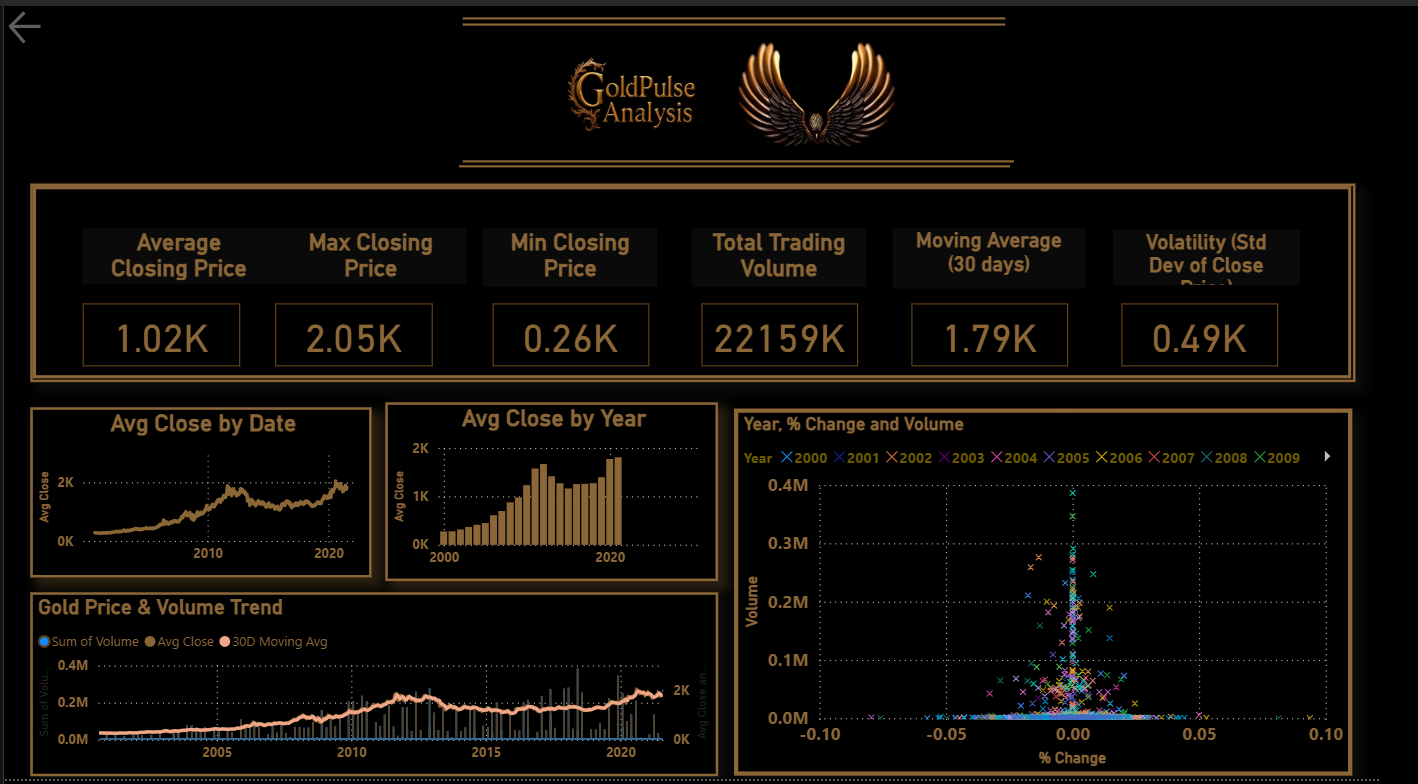

What the dashboard file says about the page in this screenshot:
{"tool":"powerbi","page":{"name":"Page 1","canvas":[1280,720],"ordinal":0},"visuals":[{"type":"actionButton","box":[0,0,100,40],"z":0},{"type":"image","box":[640.2,25.3,231,119.5],"z":1000},{"type":"image","box":[479.3,23,218.4,125.3],"z":2000},{"type":"shape","box":[426.4,3.4,504.6,16.1],"z":3000},{"type":"shape","box":[426.4,124.1,512.6,40.2],"z":4000},{"type":"shape","box":[423,124.1,512.6,49.4],"z":5000},{"type":"shape","box":[426.4,3.4,504.6,27.6],"z":6000},{"type":"textbox","title":"Average Closing Price","box":[73.3,207,179.1,52.3],"z":7000},{"type":"card","fields":{"Values":["Gold.Avg Close"]},"box":[73.3,276.7,146.5,58.1],"z":8000},{"type":"card","fields":{"Values":["Gold.Max Close"]},"box":[252.3,276.7,146.5,58.1],"z":9000},{"type":"card","fields":{"Values":["Gold.Min Close"]},"box":[454.7,276.7,145.3,58.1],"z":10000},{"type":"card","fields":{"Values":["Sum(Gold.Volume)"]},"box":[648.8,276.7,145.3,58.1],"z":11000},{"type":"card","fields":{"Values":["Gold.30D Moving Avg"]},"box":[844.2,276.7,145.3,58.1],"z":12000},{"type":"card","fields":{"Values":["Gold.Volatility"]},"box":[1039.5,276.7,145.3,58.1],"z":13000},{"type":"lineChart","title":"Avg Close by Date","fields":{"Y":["Gold.Avg Close"],"Category":["Gold.Date"]},"box":[24.4,373.3,317.4,158.1],"z":14000},{"type":"clusteredColumnChart","fields":{"Category":["Gold.Year"],"Y":["Gold.Avg Close"]},"box":[354.7,368.6,309.3,166.3],"z":15000},{"type":"actionButton","box":[24.4,165.1,1232.6,184.9],"z":16000},{"type":"lineStackedColumnComboChart","title":"Gold Price & Volume Trend","fields":{"Category":["Gold.Date"],"Y":["Sum(Gold.Volume)"],"Y2":["Gold.Avg Close","Gold.30D Moving Avg"]},"box":[24,545,640,171],"z":17000},{"type":"scatterChart","fields":{"X":["Gold.% Change"],"Y":["Gold.Volume"],"Series":["Gold.Year"]},"box":[679.1,374.4,575.6,341.9],"z":18000},{"type":"textbox","title":"Max Closing Price","box":[252.3,207,177.9,52.3],"z":19000},{"type":"textbox","title":"Min Closing Price","box":[445.4,207,162.8,54.7],"z":20000},{"type":"textbox","title":"Total Trading Volume","box":[639.5,207,162.8,54.7],"z":21000},{"type":"textbox","title":"Moving Average (30 days)","box":[827.2,206.5,179.1,56],"z":22000},{"type":"textbox","title":"Volatility (Std Dev of Close Price)","box":[1031.2,207.7,174.2,51],"z":23000}]}

Visuals, with their boxes in screenshot pixels (x1, y1, x2, y2):
actionButton: (left=4, top=4, right=111, bottom=47)
image: (left=690, top=31, right=938, bottom=159)
image: (left=518, top=28, right=752, bottom=163)
shape: (left=461, top=7, right=1002, bottom=25)
shape: (left=461, top=137, right=1011, bottom=180)
shape: (left=457, top=137, right=1007, bottom=190)
shape: (left=461, top=7, right=1002, bottom=37)
"Average Closing Price" textbox: (left=82, top=226, right=274, bottom=282)
card - Gold.Avg Close: (left=82, top=300, right=239, bottom=363)
card - Gold.Max Close: (left=274, top=300, right=431, bottom=363)
card - Gold.Min Close: (left=491, top=300, right=647, bottom=363)
card - Sum(Gold.Volume): (left=699, top=300, right=855, bottom=363)
card - Gold.30D Moving Avg: (left=909, top=300, right=1065, bottom=363)
card - Gold.Volatility: (left=1118, top=300, right=1274, bottom=363)
"Avg Close by Date" lineChart: (left=30, top=404, right=370, bottom=573)
clusteredColumnChart - Gold.Year x Gold.Avg Close: (left=384, top=399, right=716, bottom=577)
actionButton: (left=30, top=181, right=1352, bottom=379)
"Gold Price & Volume Trend" lineStackedColumnComboChart: (left=29, top=588, right=716, bottom=771)
scatterChart - Gold.% Change x Gold.Volume: (left=732, top=405, right=1349, bottom=772)
"Max Closing Price" textbox: (left=274, top=226, right=465, bottom=282)
"Min Closing Price" textbox: (left=481, top=226, right=656, bottom=284)
"Total Trading Volume" textbox: (left=689, top=226, right=864, bottom=284)
"Moving Average (30 days)" textbox: (left=891, top=225, right=1083, bottom=285)
"Volatility (Std Dev of Close Price)" textbox: (left=1109, top=226, right=1296, bottom=281)
